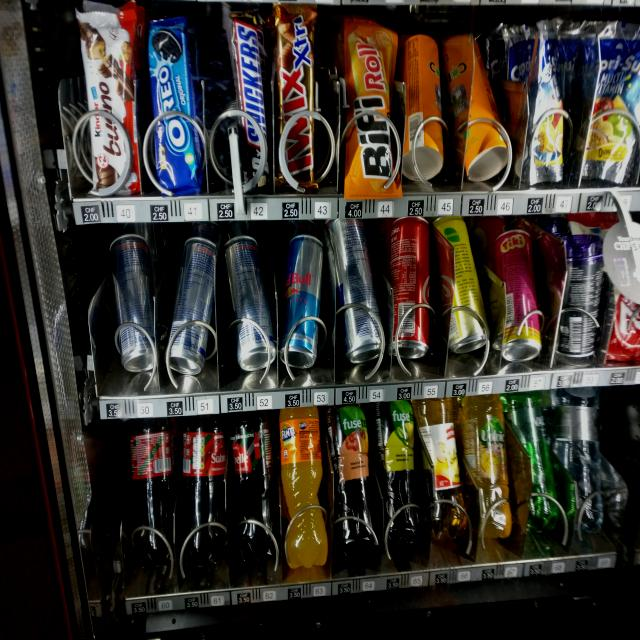7days_croissantschoko_packung_80_1_0000000000003: (600, 215, 640, 356)
bifi_roll__50__4251097402635: (341, 16, 401, 195)
bueno___43__4008400320328: (73, 8, 142, 192)
c-swiss_dosenabisicetea__33__9120025930135: (450, 33, 508, 178), (402, 35, 444, 182)
caferoyal_classicmacchiato__33__7617014164487: (558, 233, 602, 358)
caprisun_multivitamin__20__4000177605004: (588, 22, 637, 182), (529, 19, 572, 182)
coke__dose_33__54491472: (392, 212, 437, 360)
coke__flasche_50__54491472: (127, 415, 182, 564), (231, 411, 284, 564), (182, 416, 230, 566)
fanta___50__40822938: (282, 406, 330, 566)
fuse_lemon__50__5449000235947: (378, 398, 422, 548)
fuse_lemon_dose_33__5449000235947: (436, 215, 496, 354)
fuse_peach__50__5449000236623: (328, 405, 382, 558)
oreo___66__84100733: (147, 14, 205, 191)
ramseier_schorle__50__7610057012456: (410, 396, 468, 536)
redbull___33__90162909: (330, 219, 390, 366), (220, 232, 277, 370), (163, 233, 218, 376), (106, 234, 159, 372), (278, 233, 331, 366)
snickers___50__5000159461122: (222, 8, 274, 192)
tiki_himbeer_brause__50__00000000009342: (495, 227, 545, 357)
twix___50__5000159459228: (272, 2, 319, 191)
valser_classic__50__76404160: (504, 393, 568, 532)
valser_still__50__7610335002575: (552, 387, 606, 538)
volvic_pinapple__50__305764335648: (462, 394, 512, 541)
